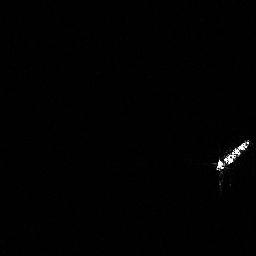ship: (211, 136, 253, 176)
